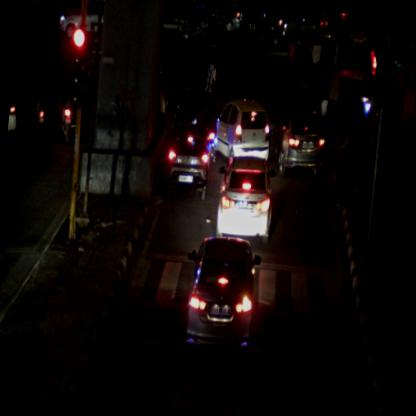motorcycle: (176, 232, 262, 354), (213, 153, 277, 244), (264, 104, 328, 178), (209, 94, 274, 164), (164, 121, 212, 202), (55, 72, 79, 140), (280, 9, 326, 41), (32, 67, 52, 130), (207, 2, 242, 32)
